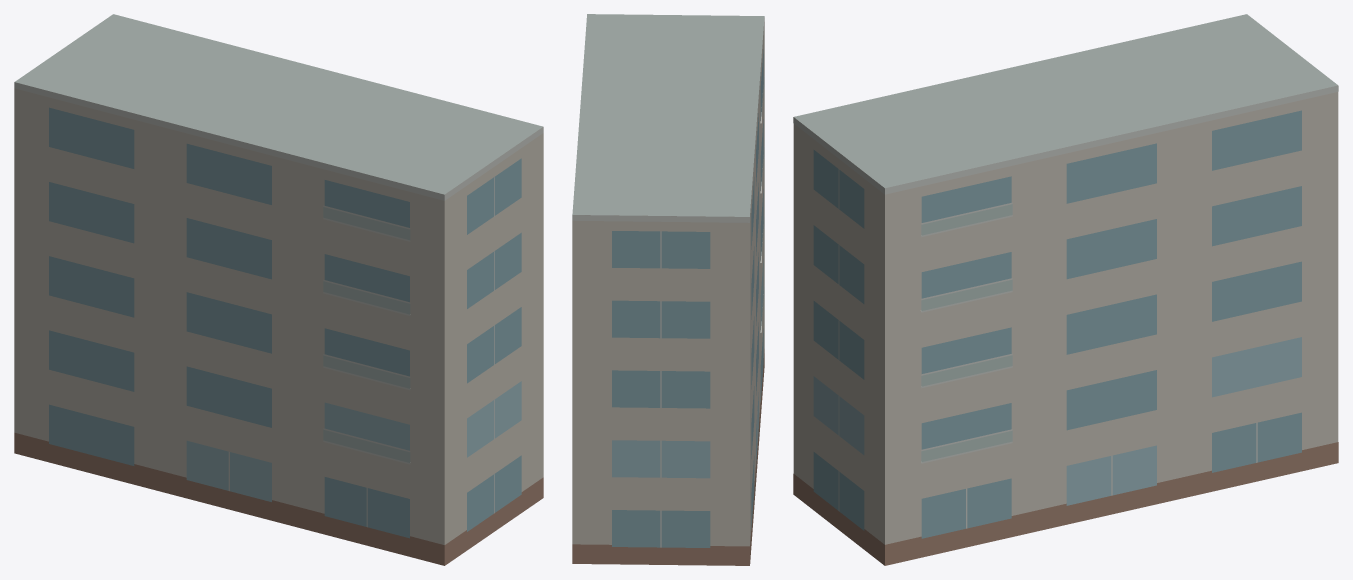
File: survey-upis-32767687.glb
The picture shows the model from 3 angles, left to right: view 1: azimuth 30°, elevation 25°; view 2: azimuth 150°, elevation 25°; view 3: azimuth 270°, elevation 25°; orthographic projection. The views are drawn at different scales.
Visible parts, largest first — view 1: survey-upis-32767687.tmp; view 2: survey-upis-32767687.tmp; view 3: survey-upis-32767687.tmp.
Boxes of the visible parts, left/top/right/bottom form: survey-upis-32767687.tmp: left=14, top=14, right=543, bottom=565; survey-upis-32767687.tmp: left=572, top=14, right=764, bottom=565; survey-upis-32767687.tmp: left=793, top=14, right=1338, bottom=565.
Size of the model in its own units: 14.36 by 14.5 by 18.98.
